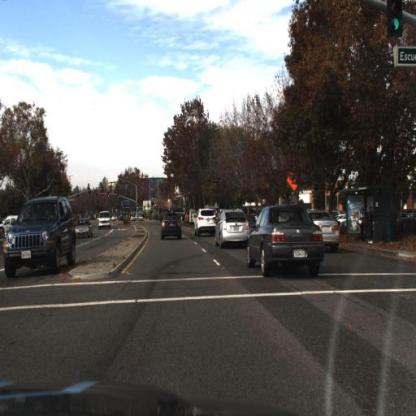car: (247, 187, 329, 291), (1, 193, 81, 289), (213, 204, 251, 260), (317, 202, 347, 259), (195, 200, 219, 249), (160, 209, 183, 245), (93, 208, 113, 236), (74, 216, 94, 242), (3, 214, 18, 231)
pedestrian: (367, 201, 379, 251), (358, 204, 369, 247), (359, 207, 367, 243)
trafficLight-Green: (389, 1, 403, 39)
